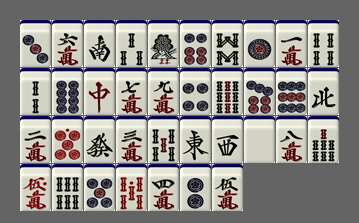0m: (20, 164, 51, 211)
0p: (52, 116, 83, 163)
0s: (116, 164, 147, 211)
1m: (276, 20, 307, 67)
1p: (244, 20, 275, 67)
1s: (148, 20, 179, 67)
1z: (180, 116, 211, 163)
2m: (20, 116, 51, 163)
2p: (180, 164, 211, 211)
2s: (20, 68, 51, 115)
2z: (84, 20, 115, 67)
3m: (116, 116, 147, 163)
3p: (20, 20, 51, 67)
3s: (116, 20, 147, 67)
3z: (212, 116, 243, 163)
4m: (148, 164, 179, 211)
4p: (180, 68, 211, 115)
4s: (308, 20, 339, 67)
4z: (308, 68, 339, 115)
5m: (212, 164, 243, 211)
5p: (84, 164, 115, 211)
5s: (148, 116, 179, 163)
5z: (244, 116, 275, 163)
6m: (52, 20, 83, 67)
6p: (180, 20, 211, 67)
6s: (52, 164, 83, 211)
6z: (84, 116, 115, 163)
7m: (116, 68, 147, 115)
7p: (244, 68, 275, 115)
7s: (308, 116, 339, 163)
7z: (84, 68, 115, 115)
8m: (276, 116, 307, 163)
8p: (52, 68, 83, 115)
8s: (212, 20, 243, 67)
9m: (148, 68, 179, 115)
9p: (276, 68, 307, 115)
9s: (212, 68, 243, 115)
